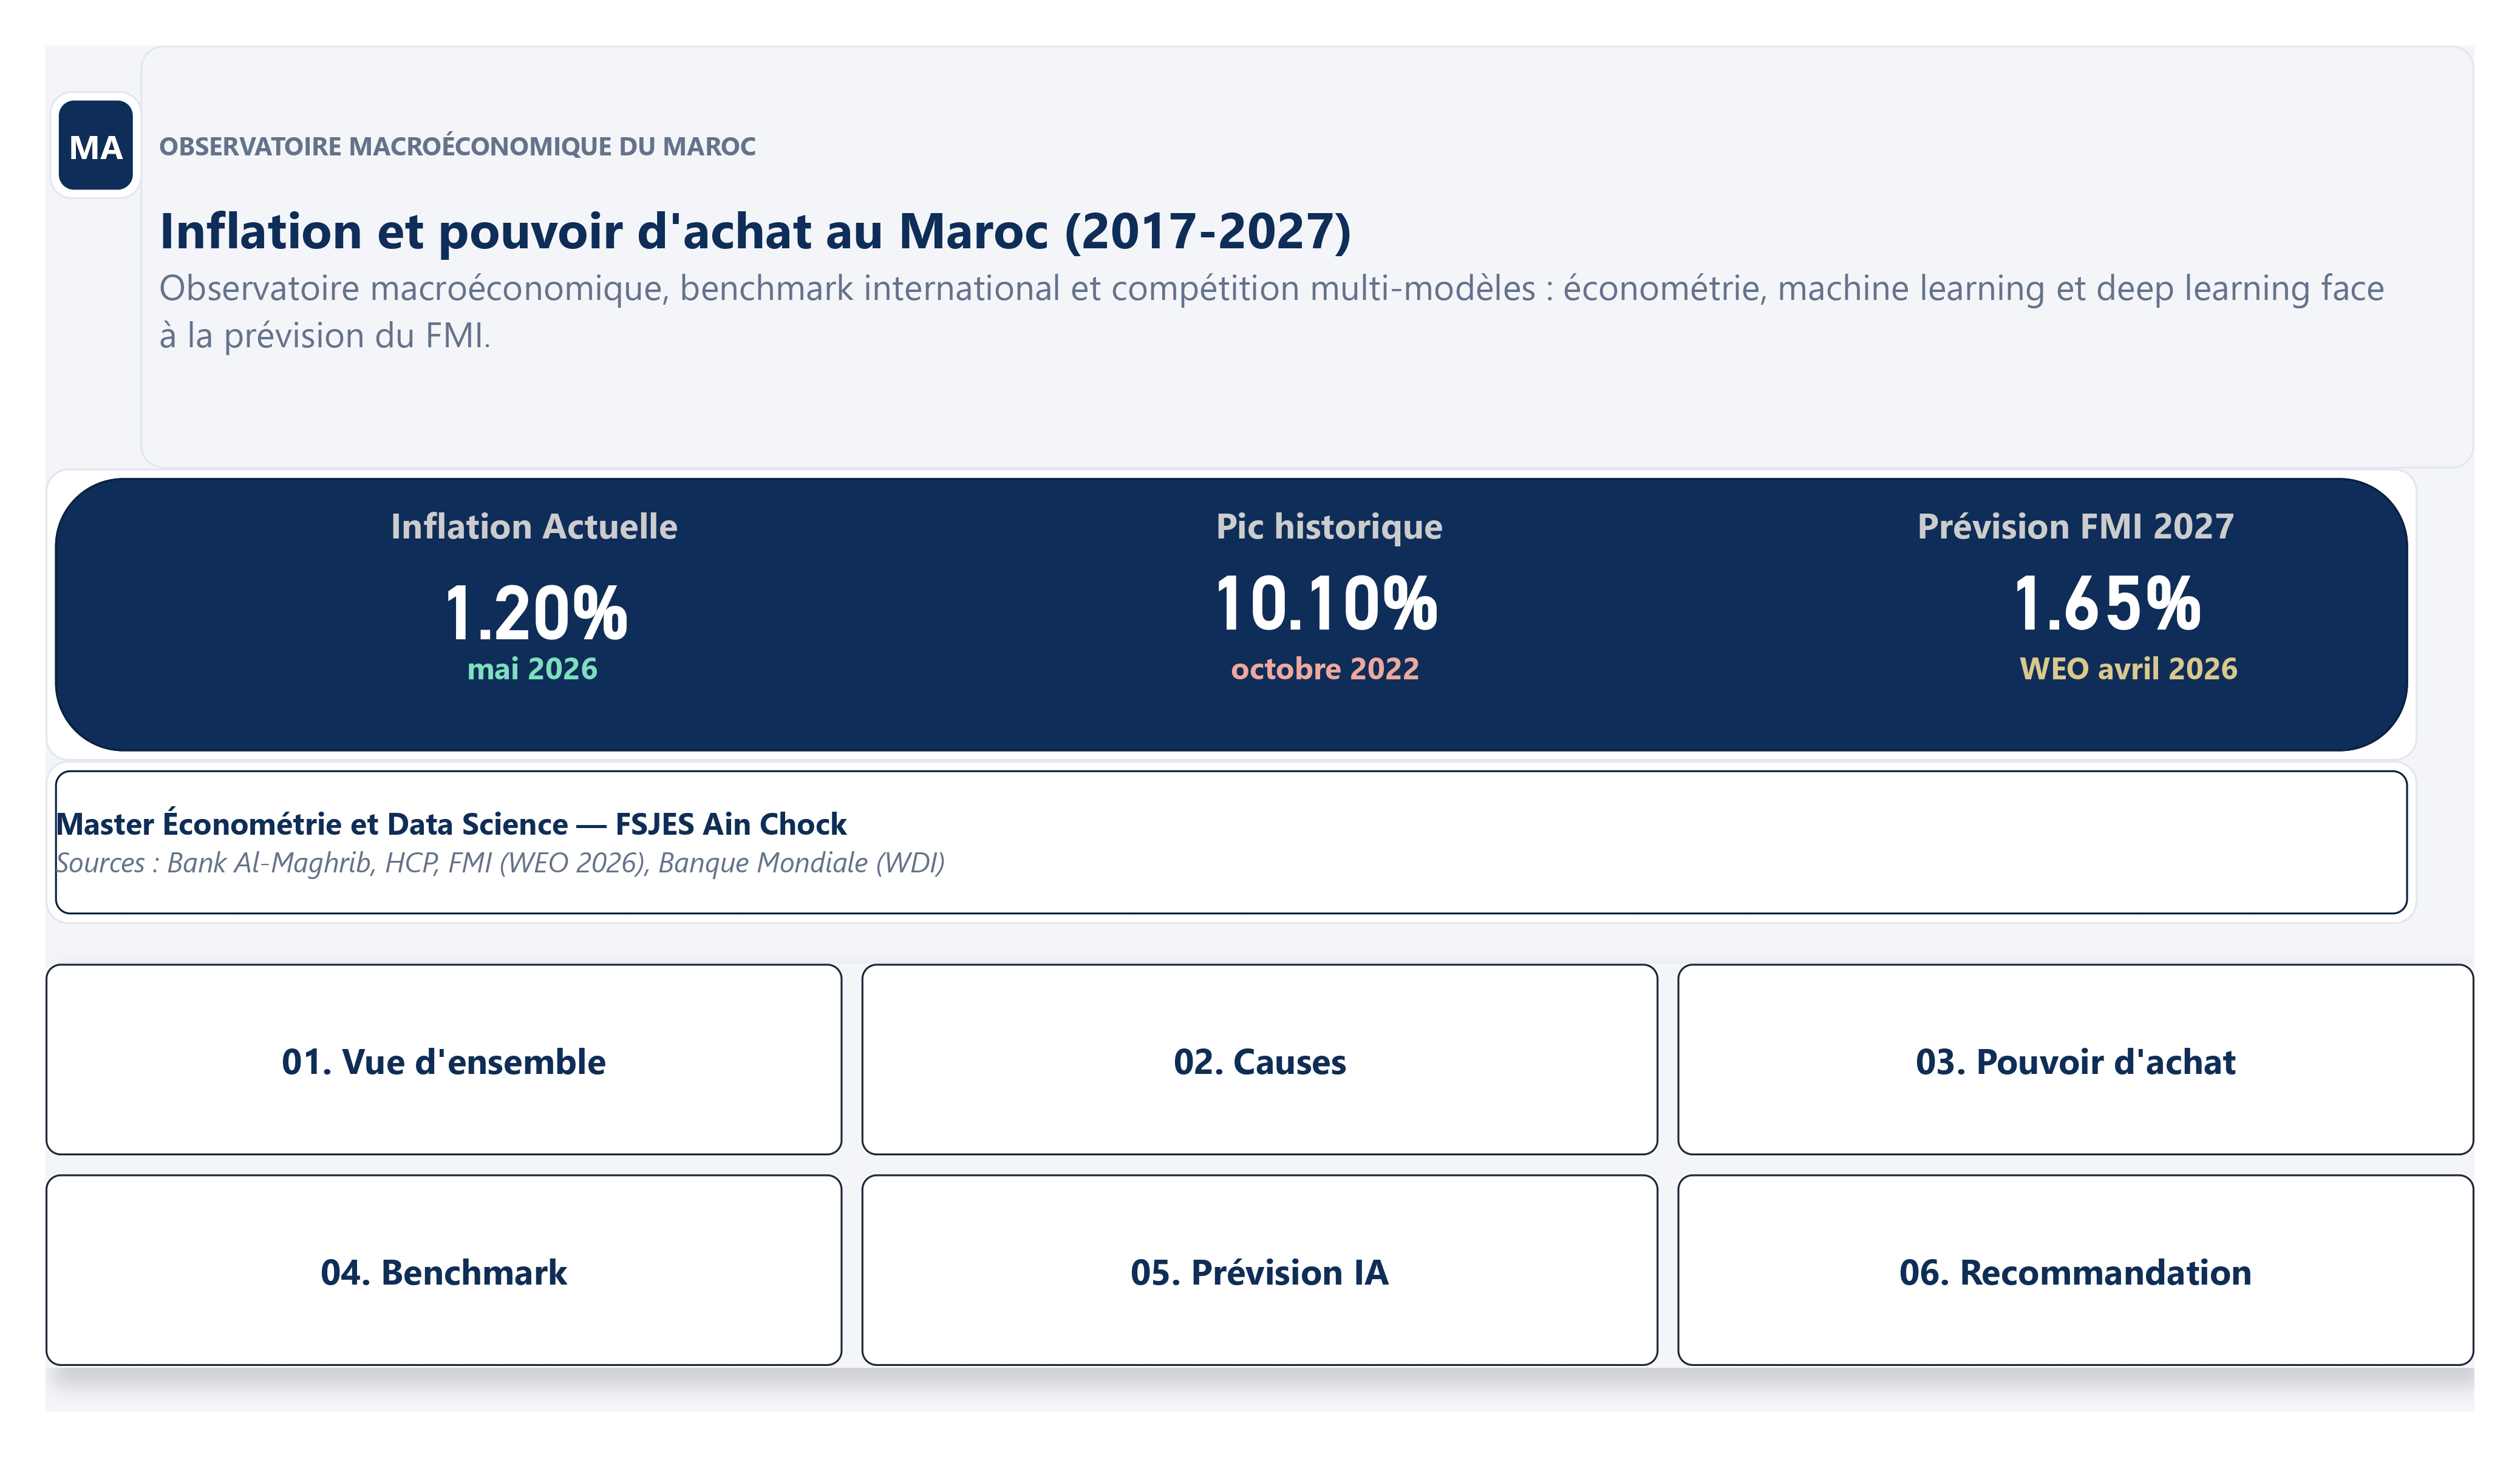

The page's visual inventory and layout, read from the dashboard file:
{"tool":"powerbi","page":{"name":"00. Sommaire","canvas":[1280,720],"ordinal":0},"visuals":[{"type":"textbox","box":[50,0,1230,223.3],"z":0},{"type":"shape","box":[0,223.3,1250,153.3],"z":1000},{"type":"card","fields":{"Values":["_Mesures.Inflation_Actuelle"]},"box":[100,263.3,315,63.3],"z":2000},{"type":"actionButton","box":[1.6,23.8,49.2,57.1],"z":3000},{"type":"card","fields":{"Values":["_Mesures.Inflation_Max_Historique"]},"box":[515.4,254.5,318.1,71.6],"z":4000},{"type":"card","fields":{"Values":["_Mesures.Cible_FMI_2027"]},"box":[958.3,258.3,255,63.3],"z":5000},{"type":"pageNavigator","box":[0,483.5,1280.4,213.1],"z":6000},{"type":"shape","box":[0,377,1250.2,85.9],"z":7000},{"type":"textbox","box":[0,377,1250.2,85.9],"z":8000},{"type":"textbox","box":[65,235,385,38.3],"z":9000},{"type":"textbox","box":[450,235,453.3,38.3],"z":10000},{"type":"textbox","box":[903.3,235,333.3,38.3],"z":11000},{"type":"textbox","box":[168.6,311.8,175,47.7],"z":12000},{"type":"textbox","box":[588.5,311.8,171.8,47.7],"z":13000},{"type":"textbox","box":[1027.5,311.8,140,47.7],"z":14000}]}

Visuals, with their boxes on the page's 1280x720 design canvas (x1, y1, x2, y2). These are canvas units, not pixel positions in the 2520x1457 screenshot, which may show the page scaled, cropped or inside an application window:
textbox: l=50, t=0, r=1280, b=223
shape: l=0, t=223, r=1250, b=377
card - _Mesures.Inflation_Actuelle: l=100, t=263, r=415, b=327
actionButton: l=2, t=24, r=51, b=81
card - _Mesures.Inflation_Max_Historique: l=515, t=254, r=834, b=326
card - _Mesures.Cible_FMI_2027: l=958, t=258, r=1213, b=322
pageNavigator: l=0, t=484, r=1280, b=697
shape: l=0, t=377, r=1250, b=463
textbox: l=0, t=377, r=1250, b=463
textbox: l=65, t=235, r=450, b=273
textbox: l=450, t=235, r=903, b=273
textbox: l=903, t=235, r=1237, b=273
textbox: l=169, t=312, r=344, b=360
textbox: l=588, t=312, r=760, b=360
textbox: l=1028, t=312, r=1168, b=360
